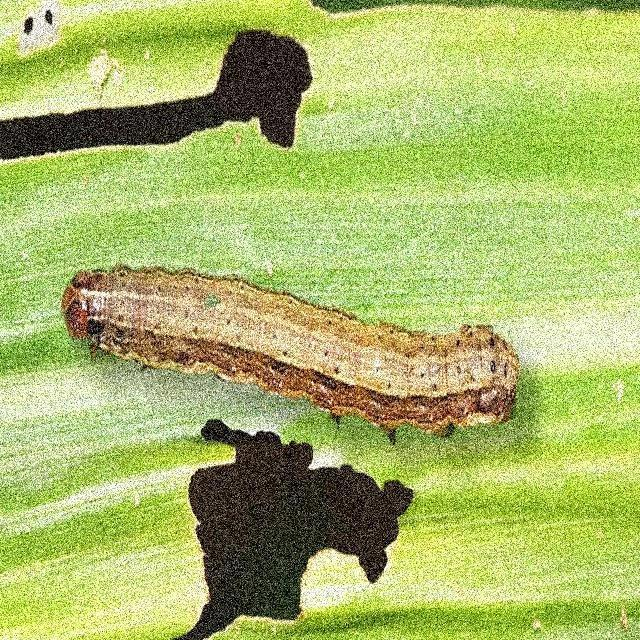gusano_cogollero: (64, 262, 516, 436)
